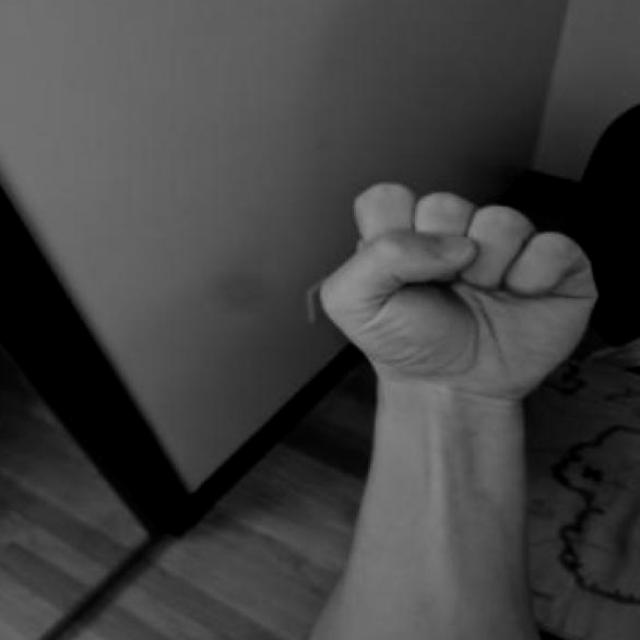S: (322, 147, 614, 425)
